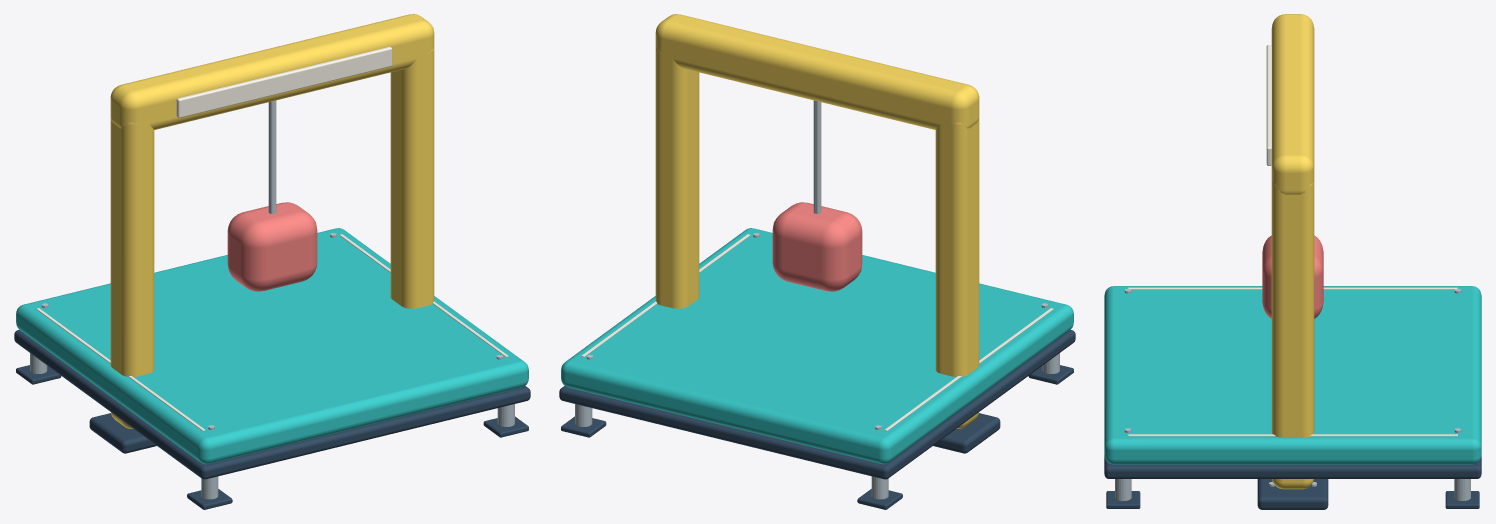
Rendered from party-obstacle-course-party-obstacle-course-pendulum-g-2eb9c62b__28937.glb.
3 renders of one model, left to right at view 1: azimuth 30°, elevation 25°; view 2: azimuth 150°, elevation 25°; view 3: azimuth 270°, elevation 25°, orthographic.
Visible parts, largest first — view 1: party-obstacle-course-pendulum-gate, pendulum/coral, pendulum/steel; view 2: party-obstacle-course-pendulum-gate, pendulum/coral, pendulum/steel; view 3: party-obstacle-course-pendulum-gate, pendulum/coral.
Part boxes in pixels (<box>): party-obstacle-course-pendulum-gate: <box>14,14,530,509</box>; pendulum/coral: <box>227,202,317,291</box>; pendulum/steel: <box>268,100,276,213</box>; party-obstacle-course-pendulum-gate: <box>559,14,1075,509</box>; pendulum/coral: <box>772,202,862,291</box>; pendulum/steel: <box>813,100,821,213</box>; party-obstacle-course-pendulum-gate: <box>1104,14,1481,509</box>; pendulum/coral: <box>1262,235,1323,318</box>.
Size of the model in its own units: 4.05 by 4.05 by 4.
